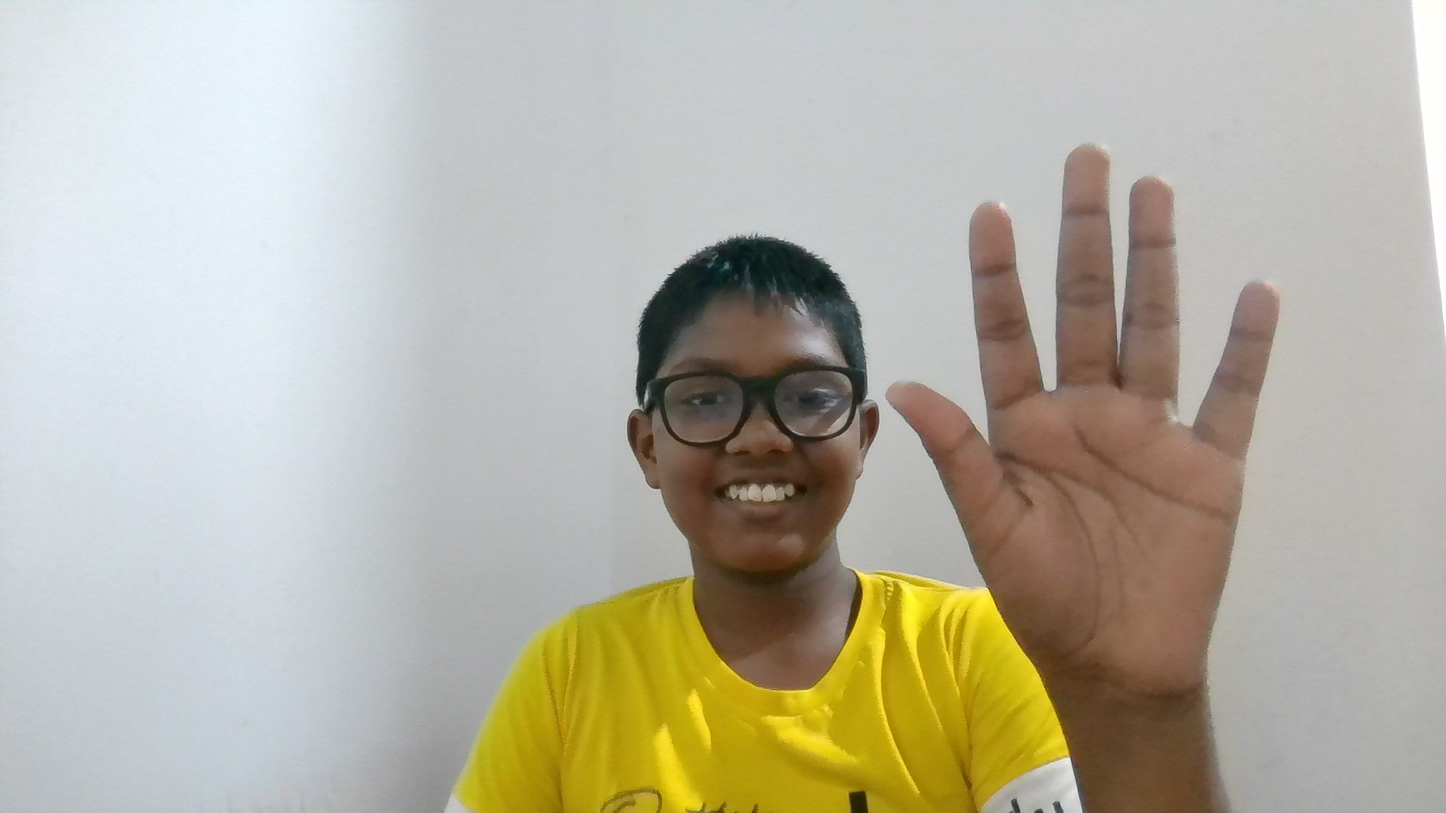Hello: (891, 138, 1210, 641)
